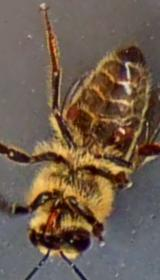varroa_mite: (113, 107, 142, 161)
